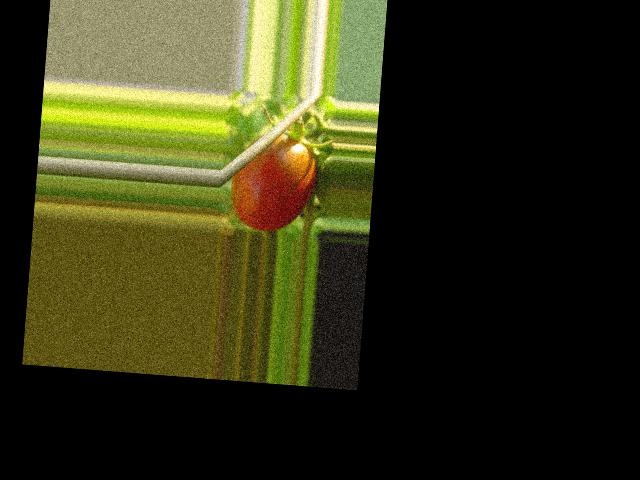tomato: (229, 130, 317, 233)
